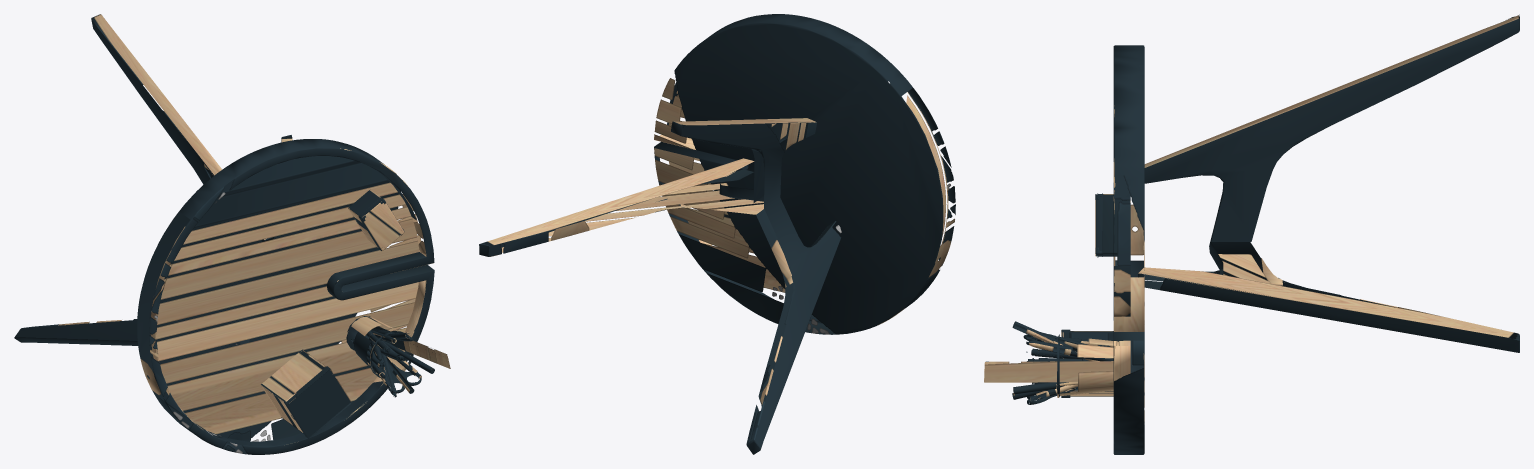
The picture shows the model from 3 angles, left to right: view 1: azimuth 30°, elevation 25°; view 2: azimuth 150°, elevation 25°; view 3: azimuth 270°, elevation 25°; orthographic projection. The views are drawn at different scales.
Size of the model in its own units: 0.6749 by 0.6823 by 0.8251.
